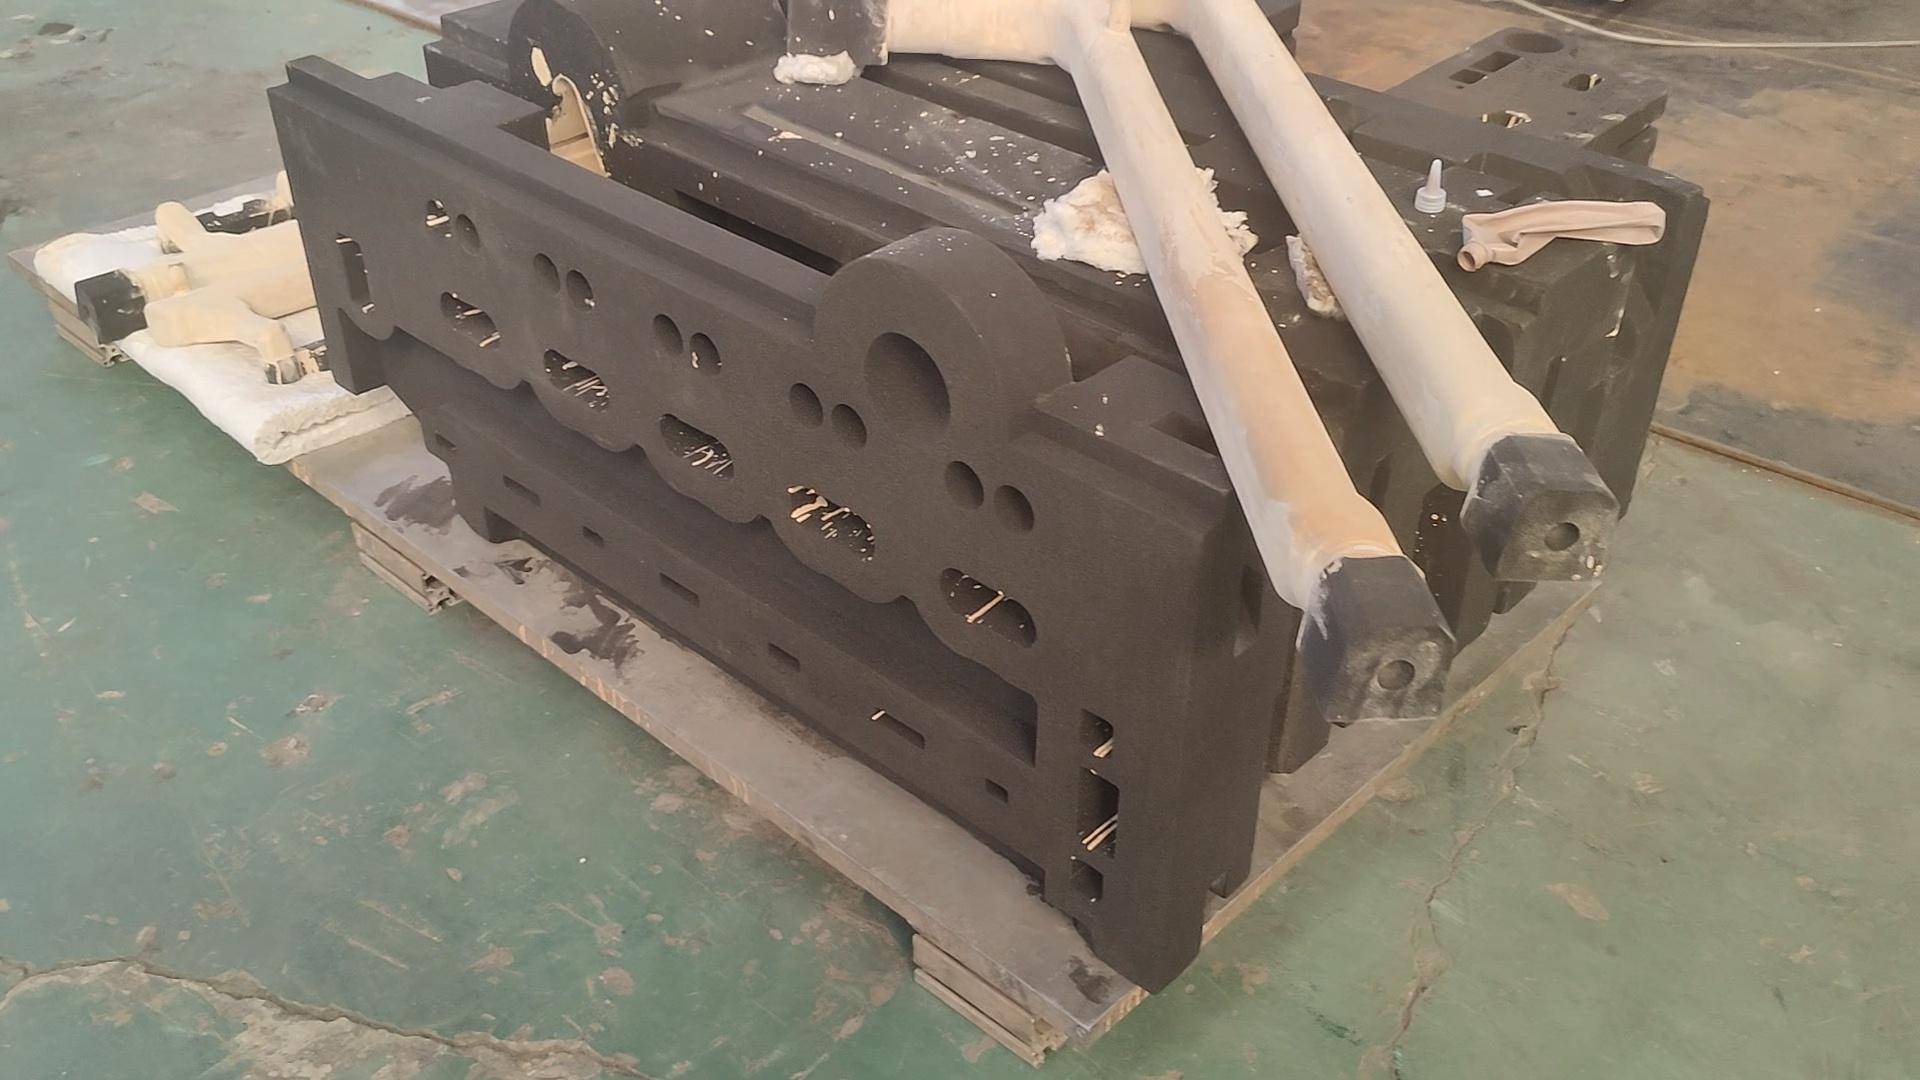pouring hole: (860, 330, 952, 450), (1502, 28, 1567, 55)
